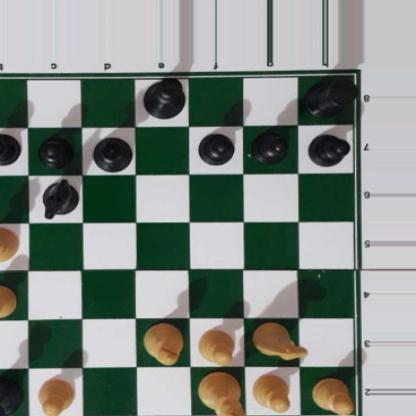black-bishop: (89, 137, 133, 174)
black-king: (140, 77, 187, 120)
black-knight: (40, 177, 79, 219)
black-pawn: (307, 131, 348, 167), (197, 130, 234, 165), (251, 130, 289, 164), (37, 134, 73, 168), (0, 132, 19, 166)
black-queen: (0, 374, 23, 416)
black-rook: (305, 76, 357, 117)
white-bishop: (142, 322, 184, 367), (0, 225, 20, 263)
white-king: (198, 371, 245, 416)
white-knight: (254, 321, 309, 362)
white-pawn: (251, 373, 293, 415), (311, 376, 353, 414), (35, 377, 75, 415), (196, 326, 236, 363), (0, 285, 17, 317)
